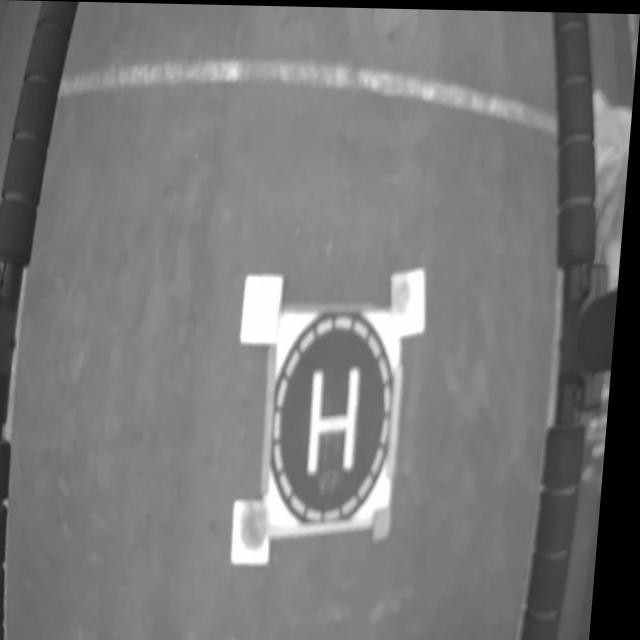Helipad: (315, 362, 368, 476)
